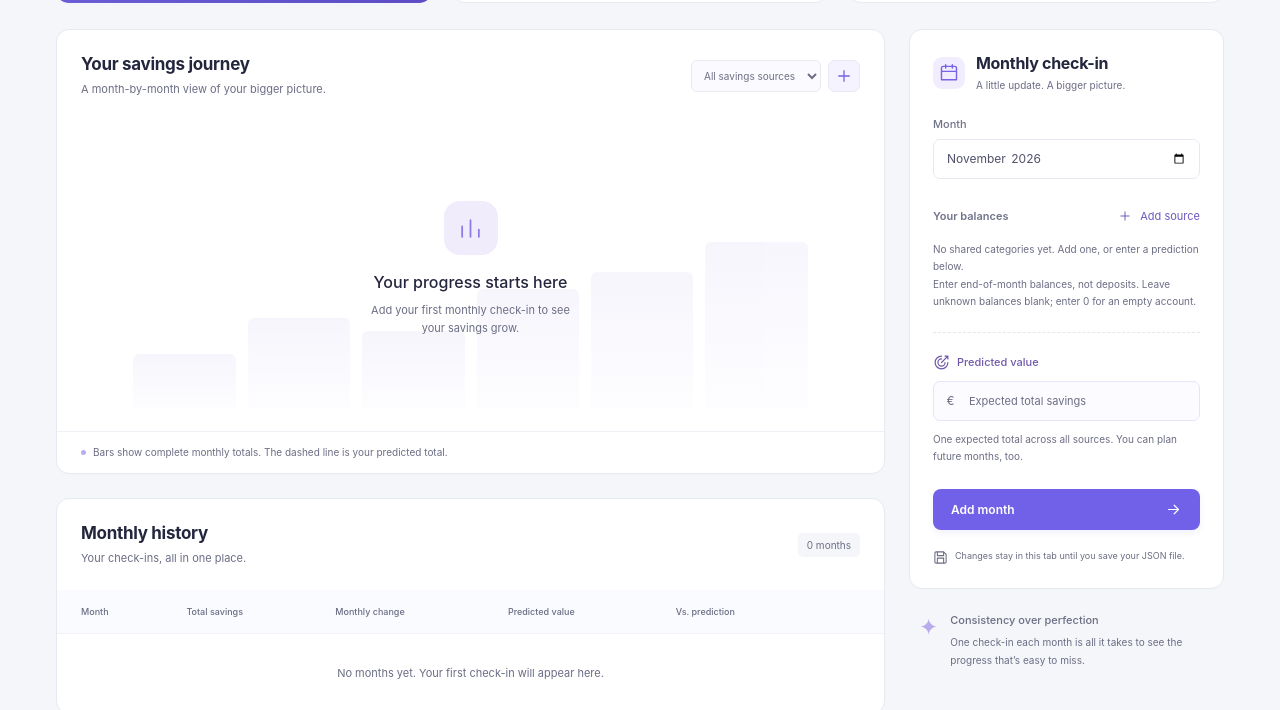
Test case: language selection › keeps a draft and retranslates validation when switching in either direction
(page scrolled)
Type "-2" into the field labelled "Predicted value".
click(1066, 401); type("-2")  # box x1=933 y1=381 x2=1200 y2=421
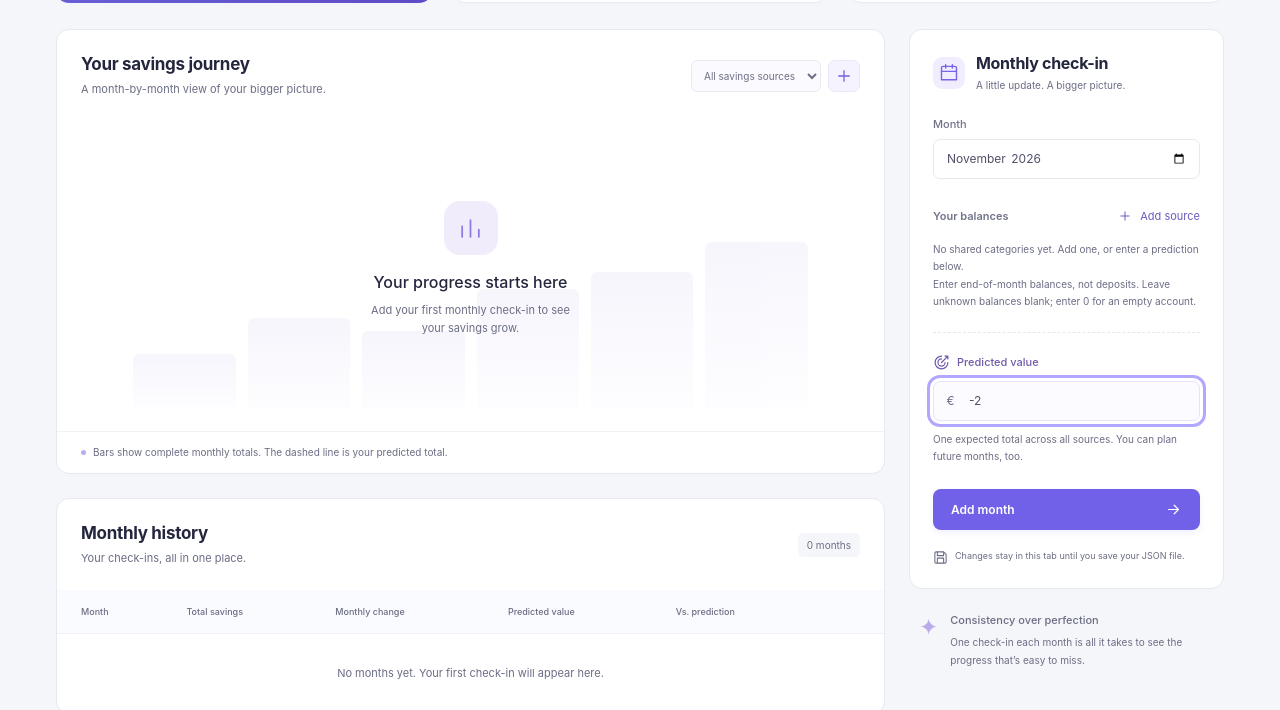
Click the button "Add month".
click(983, 509)  # box x1=933 y1=489 x2=1200 y2=530
(page scrolled)
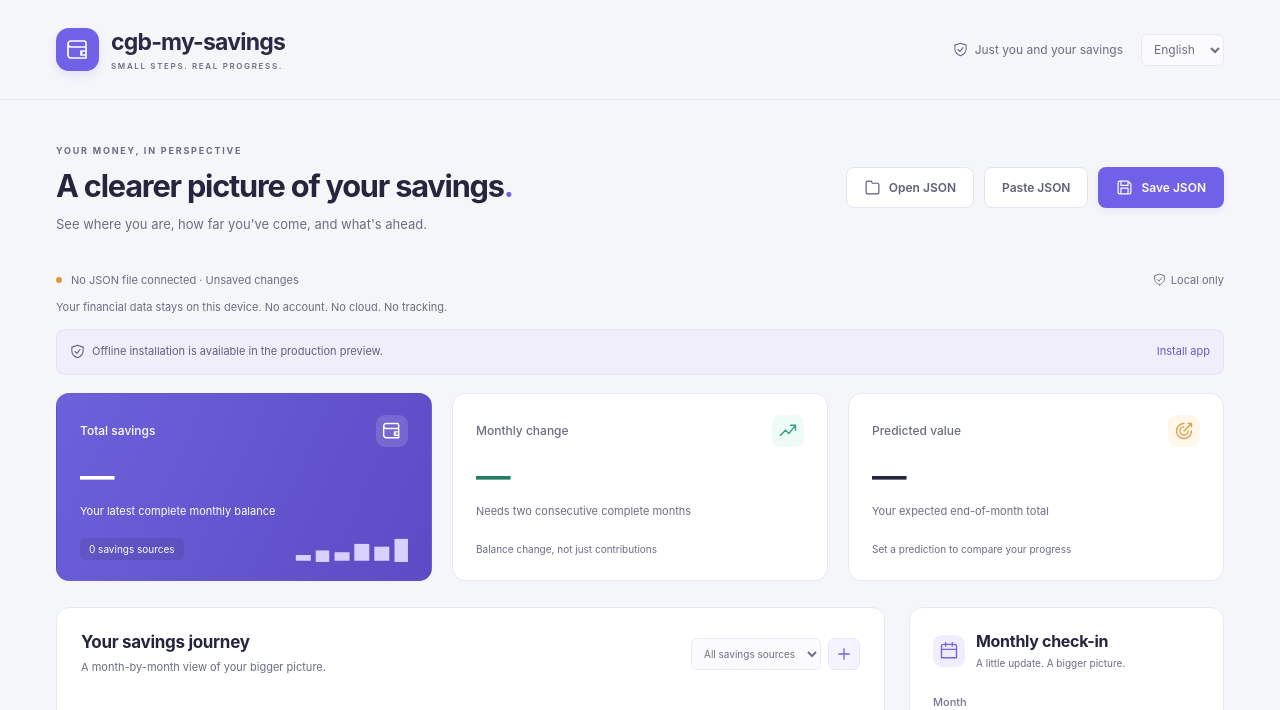
Select "Español" in the dropdown named "Language" next to "Just you and your savings" at {"x": 1182, "y": 50}, box x1=1141 y1=34 x2=1224 y2=66
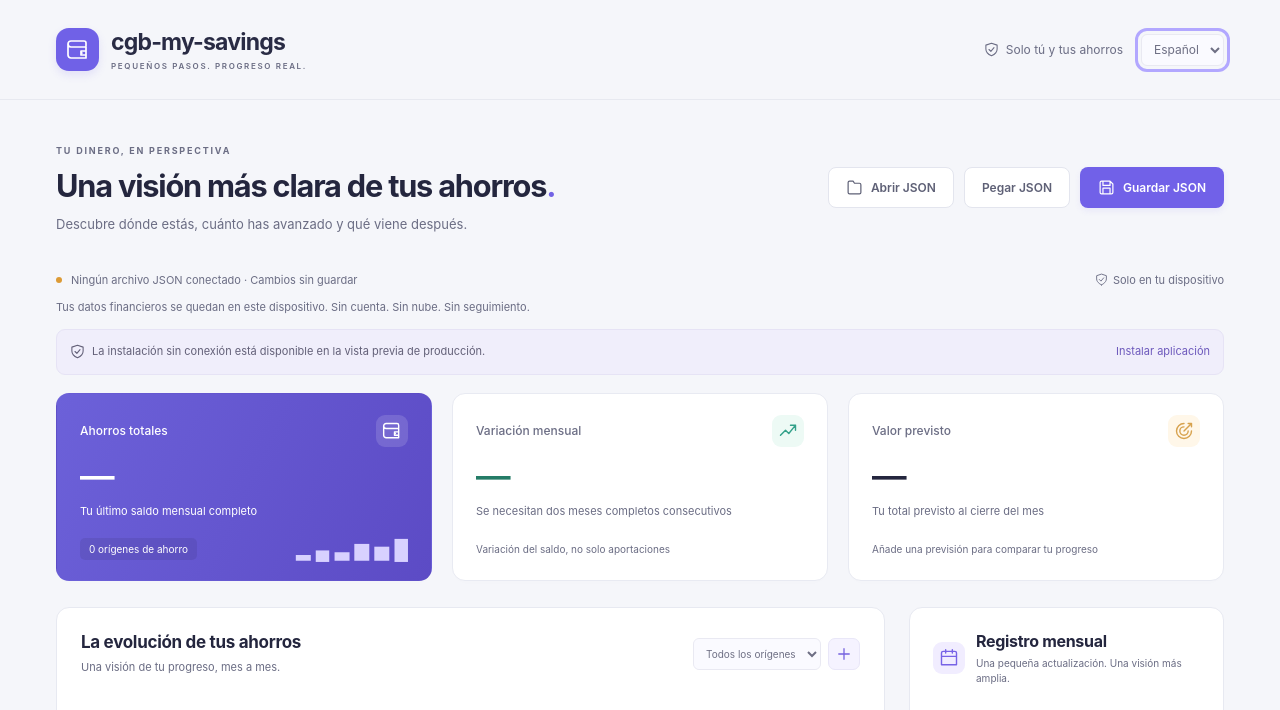
Select "English" in the dropdown named "Idioma" next to "Solo tú y tus ahorros" at {"x": 1182, "y": 50}, box x1=1141 y1=34 x2=1224 y2=66
(page scrolled)
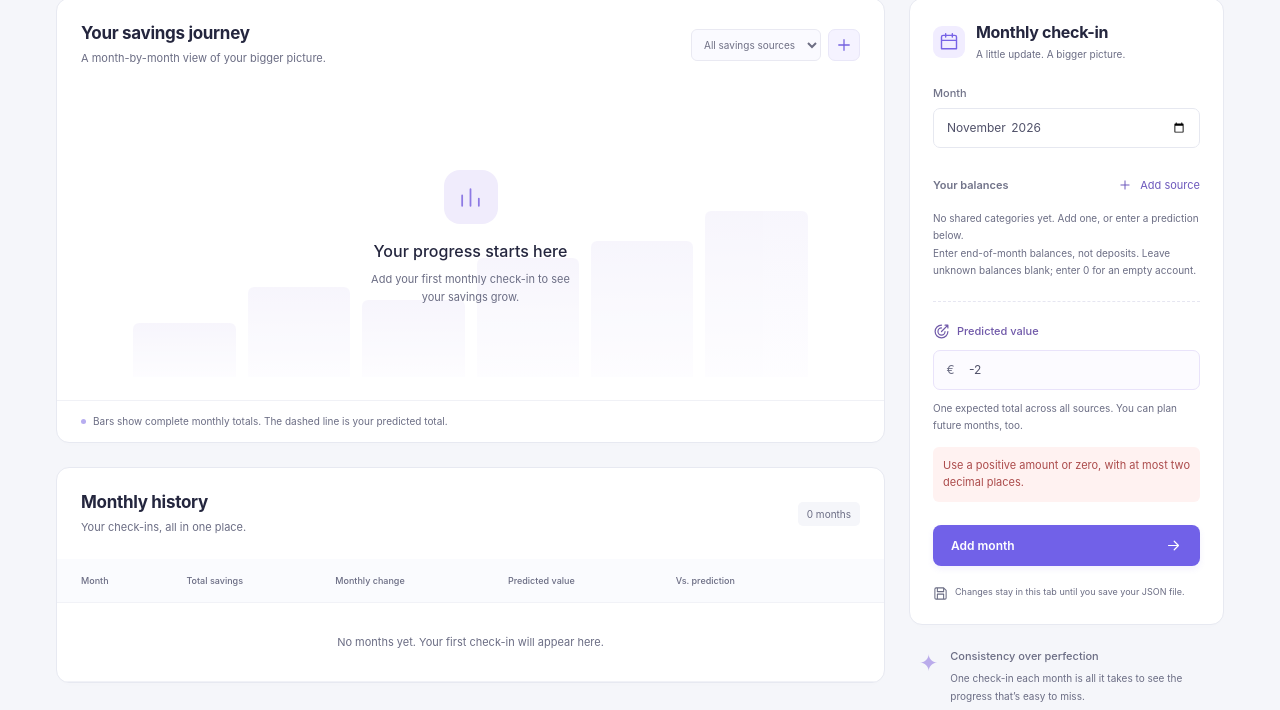
Expected: the message shows "Use a positive amount or zero", x1=943 y1=458 x2=1190 y2=489
